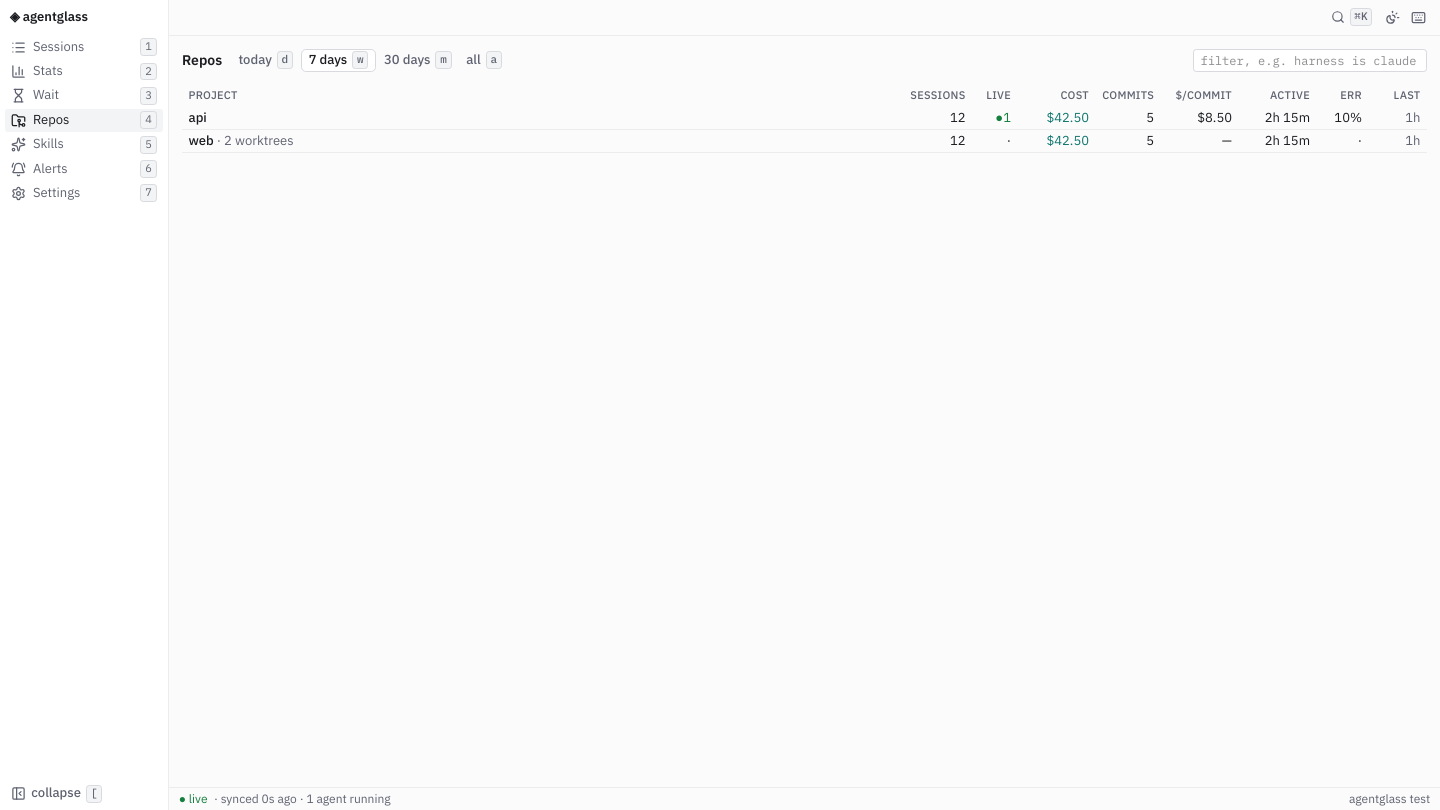
projects, and a row opens its details
Expected: the row "web · 2 worktrees 12 · $42.50 5 — 2h 15m · 1h" is shown, top-left (182, 130), bottom-right (1427, 152)
Click the row "api 12 ●1 $42.50 5 $8.50 2h 15m 10% 1h" at (804, 118), box top-left (182, 107), bottom-right (1427, 130)
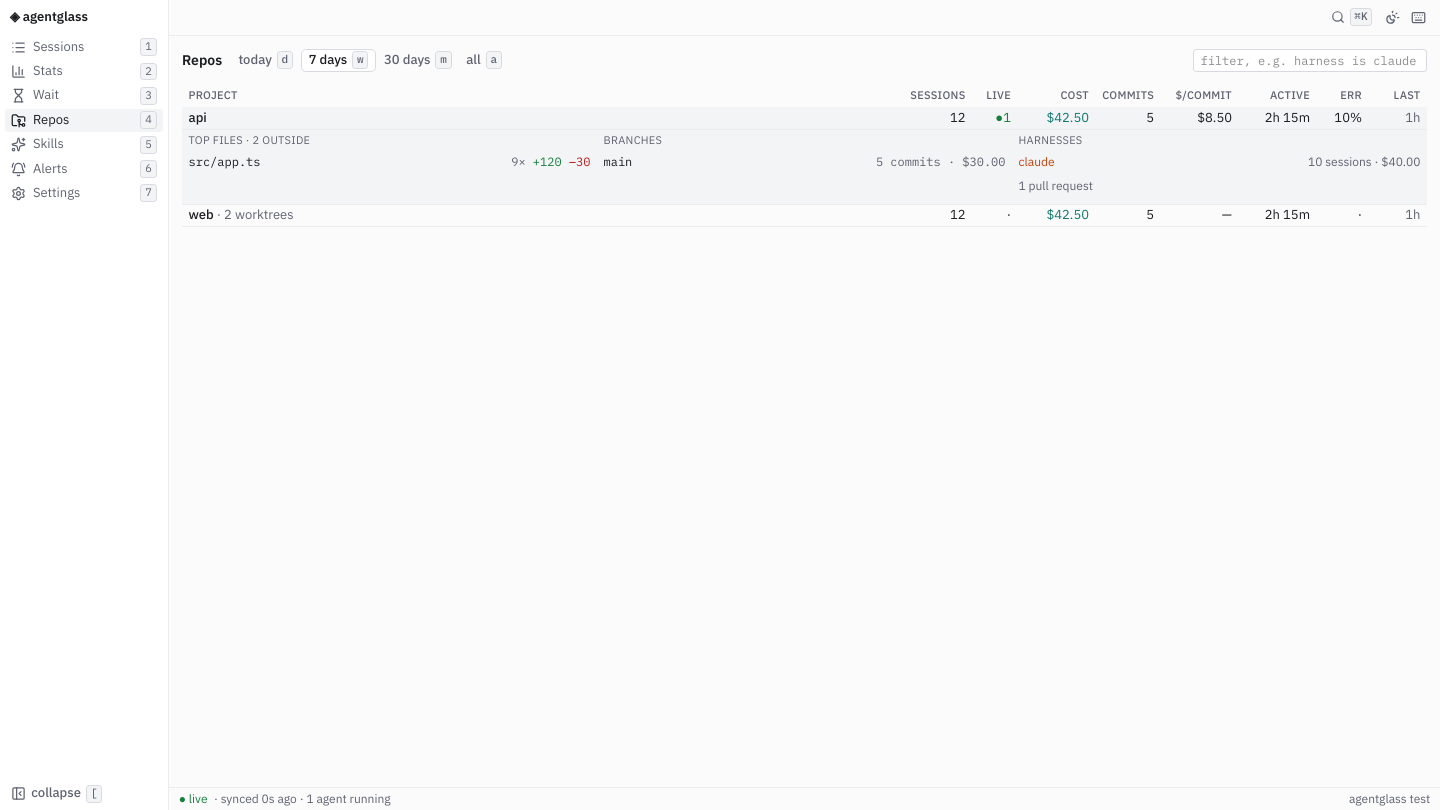
Now the element named "Files of api" shows "src/app.ts", box top-left (188, 154), bottom-right (260, 169)
Now the element named "Branches of api" shows "5 commits", box top-left (604, 133), bottom-right (1006, 169)
